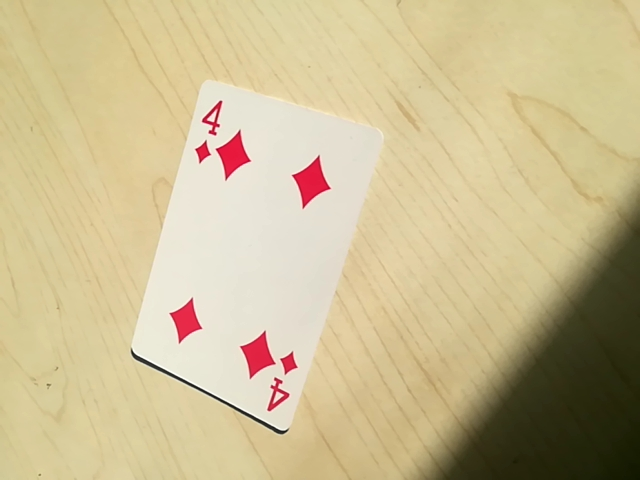fk 4: (259, 354, 298, 419), (190, 96, 223, 169)
